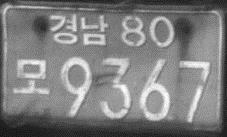0: (148, 15, 175, 48)
3: (100, 55, 133, 119)
6: (137, 56, 171, 120)
7: (175, 58, 212, 124)
8: (120, 15, 146, 47)
9: (59, 56, 94, 119)
경남_O: (47, 14, 110, 47)
모: (12, 57, 51, 96)
